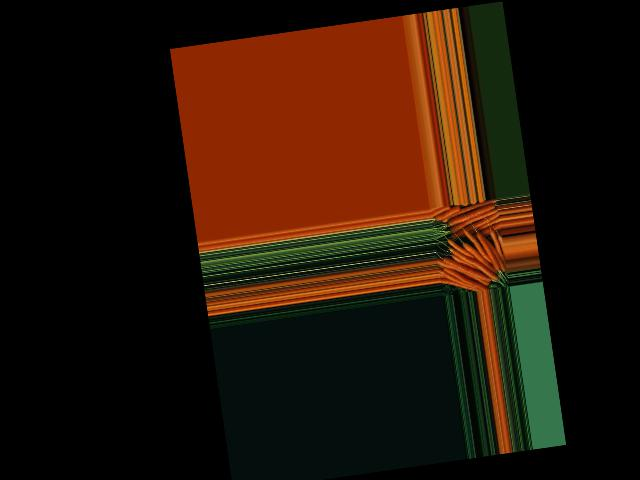carrot: (480, 230, 504, 273)
